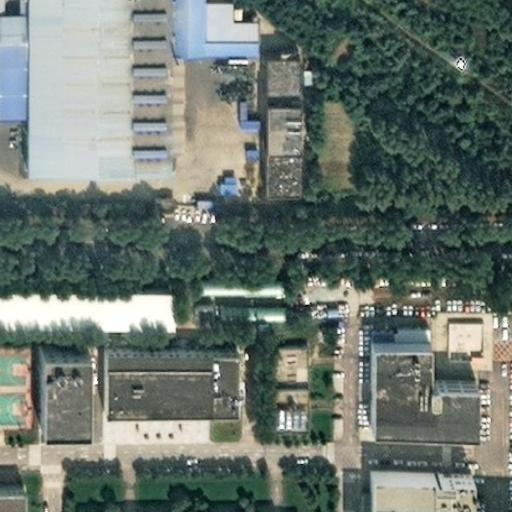building: (14, 0, 158, 165), (362, 329, 467, 413), (96, 335, 230, 391), (0, 281, 159, 317), (363, 458, 462, 512), (260, 40, 292, 172), (158, 0, 246, 44), (104, 410, 211, 446), (31, 337, 79, 415), (261, 335, 297, 419), (200, 275, 283, 297), (216, 302, 284, 321), (439, 313, 473, 348), (193, 297, 219, 328), (0, 483, 25, 511), (217, 171, 240, 196), (328, 367, 344, 391), (327, 412, 342, 435), (242, 145, 259, 161)
